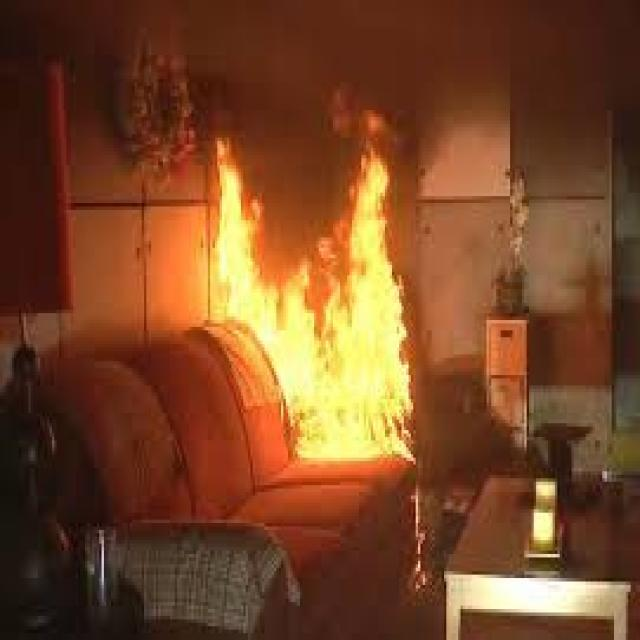fire: (314, 275, 414, 461), (215, 139, 261, 326), (265, 336, 319, 461), (349, 159, 393, 279), (256, 267, 315, 341)
